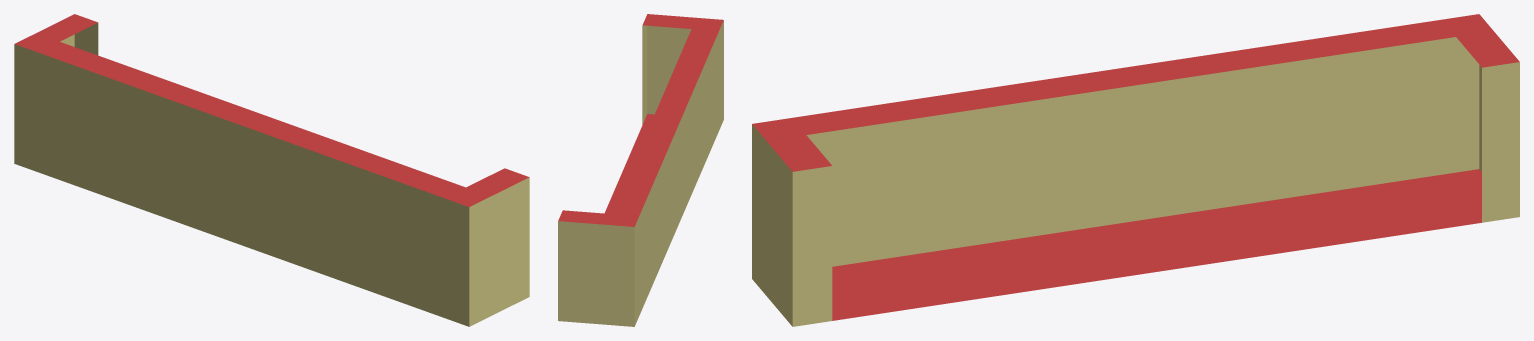
3 views of the same model, side by side, from view 1: azimuth 30°, elevation 25°; view 2: azimuth 150°, elevation 25°; view 3: azimuth 270°, elevation 25° (orthographic). The views are drawn at different scales.
Size of the model in its own units: 21.43 by 44.03 by 9.81.
